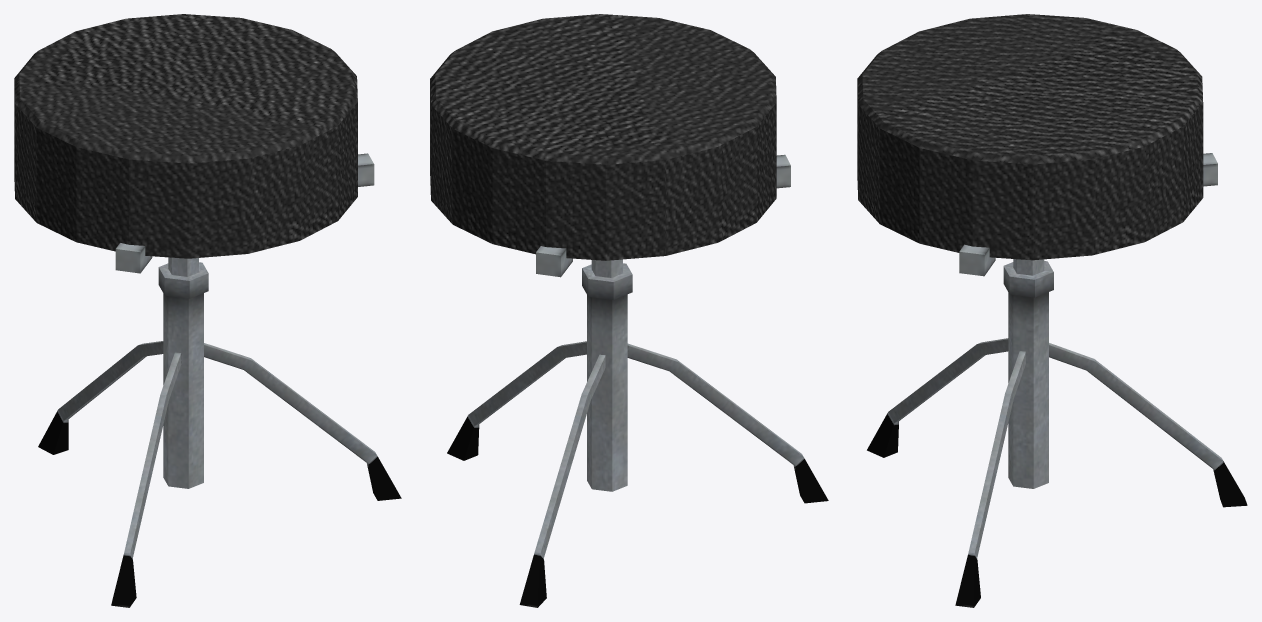
The model's file is LIH0210047.fbx.
3 renders of one model, left to right at view 1: azimuth 30°, elevation 25°; view 2: azimuth 150°, elevation 25°; view 3: azimuth 270°, elevation 25°, orthographic.
Parts seen in each view (by area): view 1: smLIH0210047; view 2: smLIH0210047; view 3: smLIH0210047.
Part boxes in pixels (<box>): smLIH0210047: <box>14,14,401,607</box>; smLIH0210047: <box>430,14,828,607</box>; smLIH0210047: <box>857,14,1247,607</box>.
Size of the model in its own units: 60.46 by 74.29 by 60.82.
Materials: 1 (1 with a texture image).
